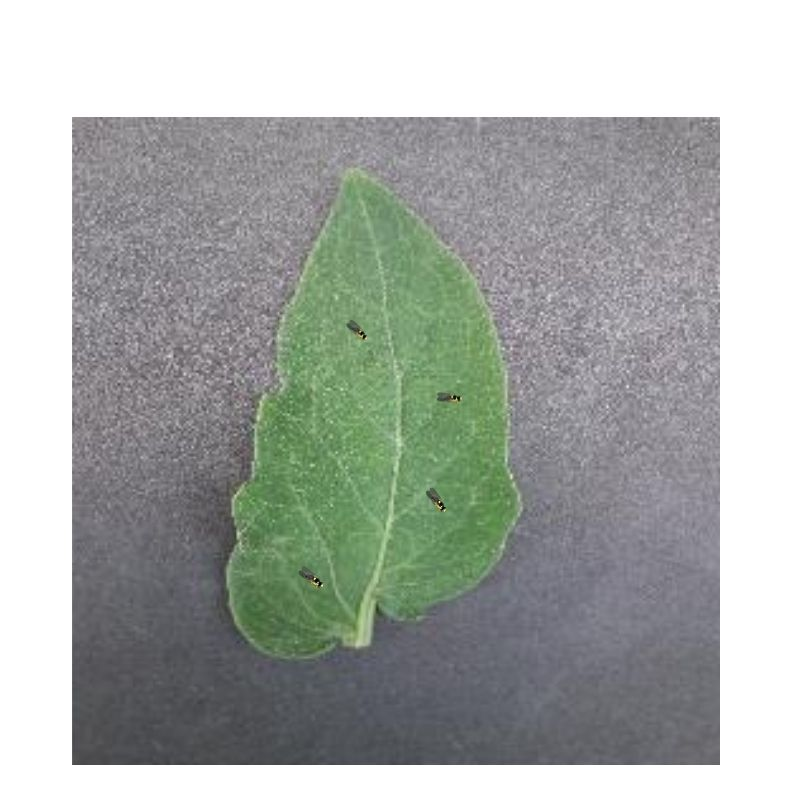liriomyza: (296, 565, 327, 591), (425, 486, 449, 514), (345, 319, 369, 340), (434, 389, 463, 405)
